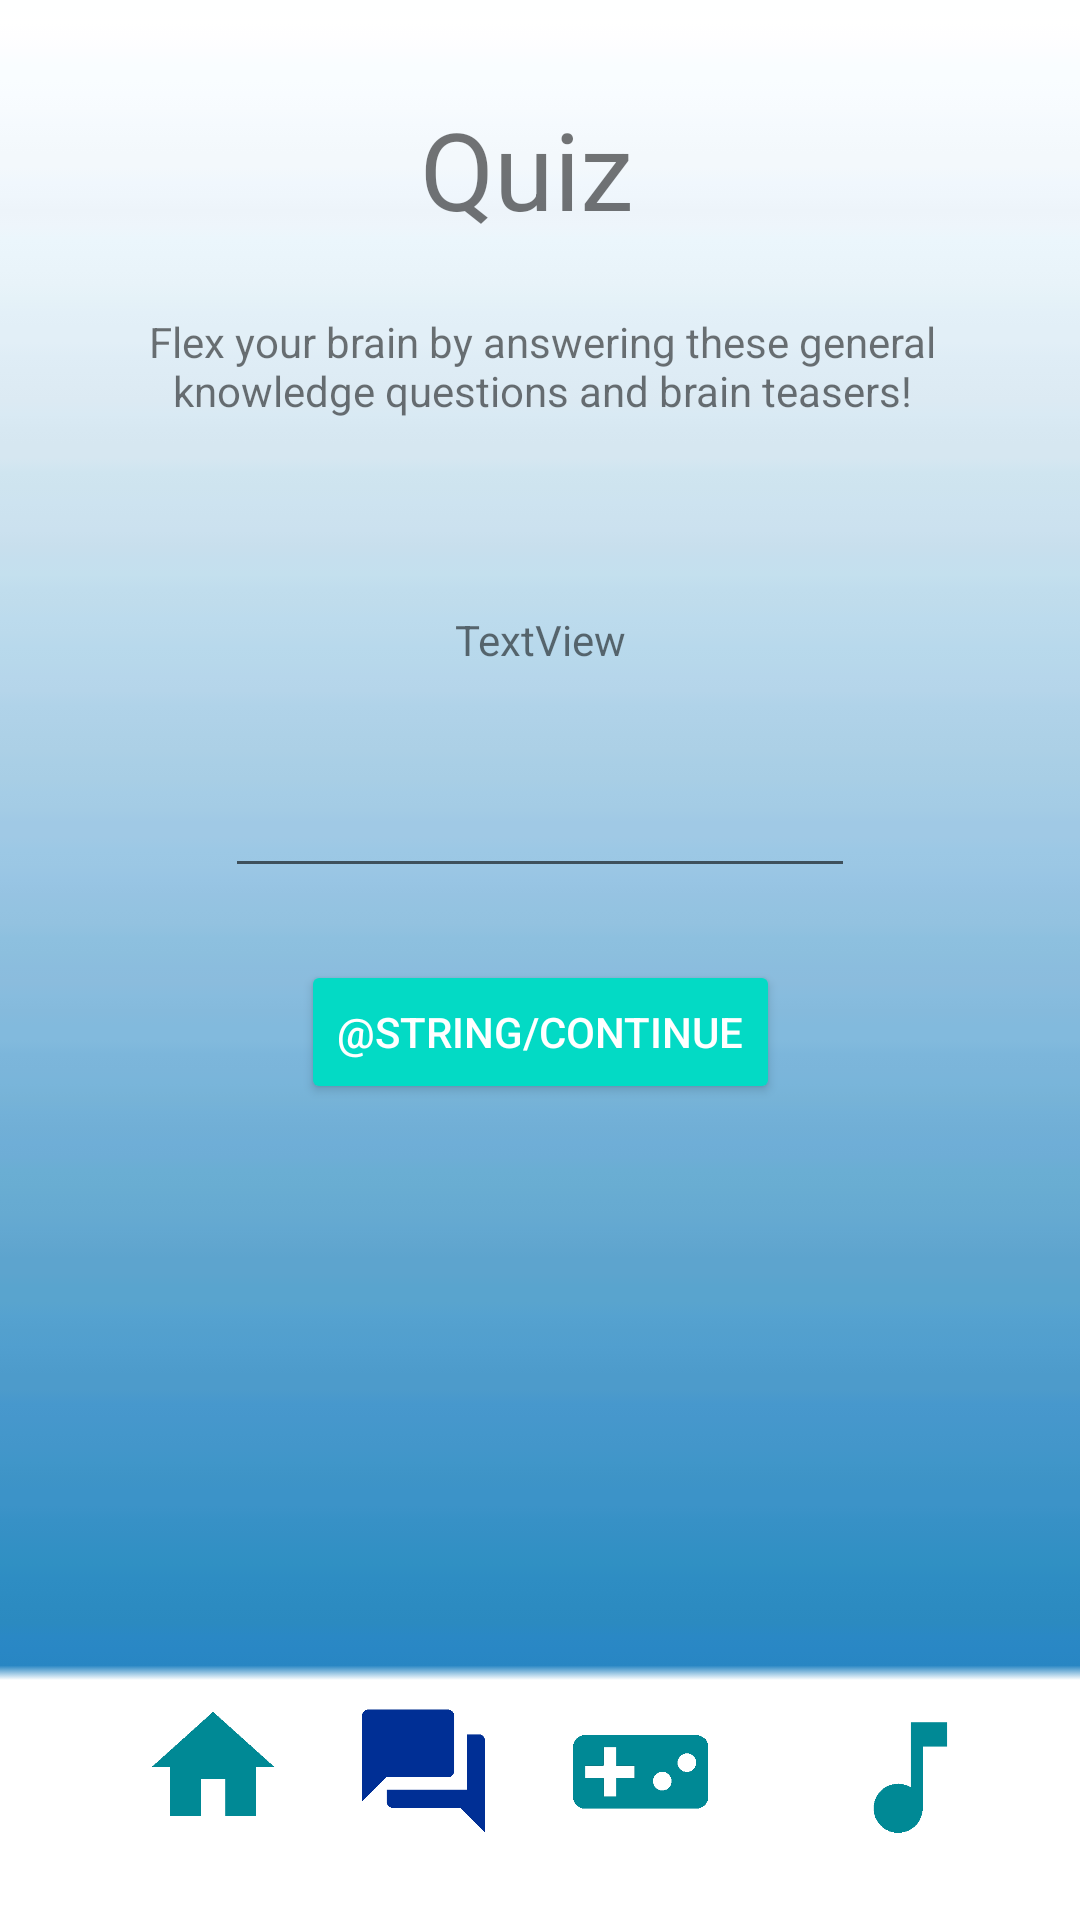

Icon click points for this 1080 × 1920 phone screenshot, format [x,y]:
game: [640,1772]
home: [213,1764]
music: [910,1777]
question now: [423,1770]
